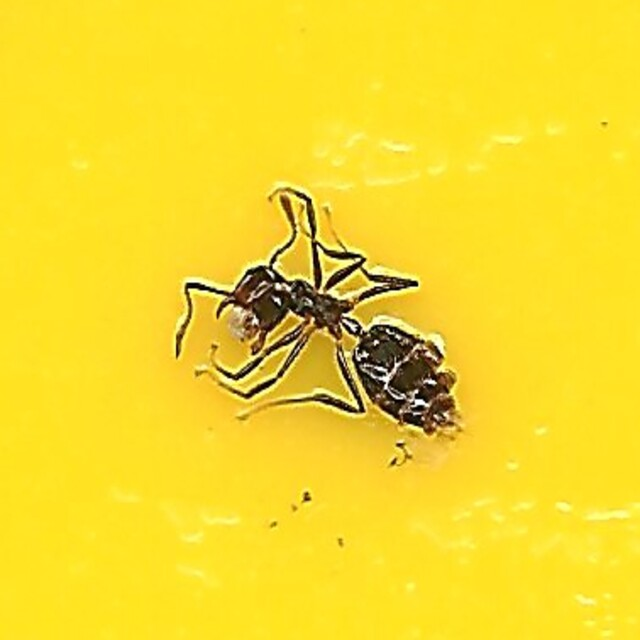Hymenoptera: (169, 191, 471, 449)
